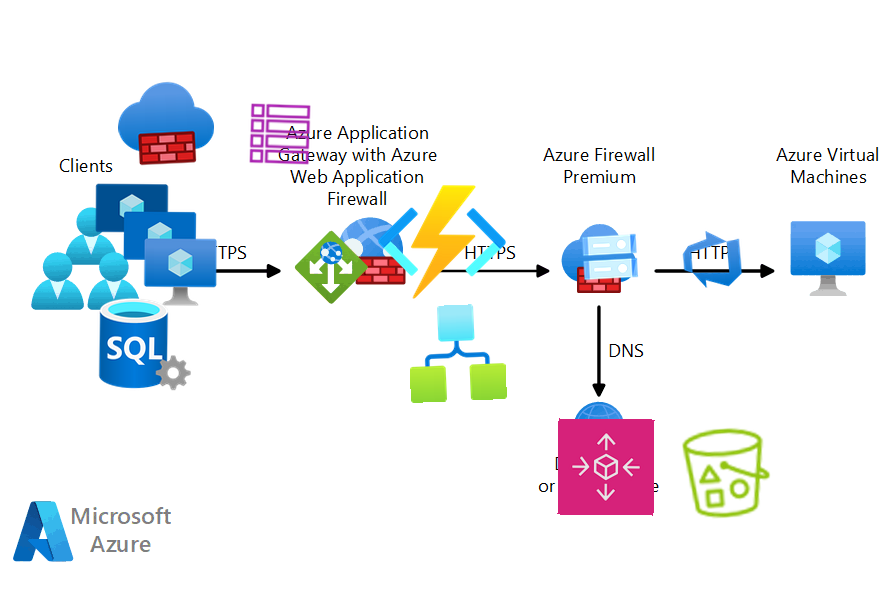aws_auto_scaling: (557, 418, 655, 516)
aws_dynamodb_table: (246, 100, 314, 168)
aws_simple_storage_service_bucket_with_objects: (675, 421, 779, 525)
azure_devops: (677, 224, 747, 294)
azure_firewalls: (115, 72, 217, 174)
azure_function_apps: (377, 177, 507, 307)
azure_logic_apps: (406, 302, 508, 404)
azure_sql_server: (96, 295, 194, 393)
azure_vm_scale_sets: (89, 177, 219, 307)
gcp_cloud_storage: (576, 223, 644, 291)
